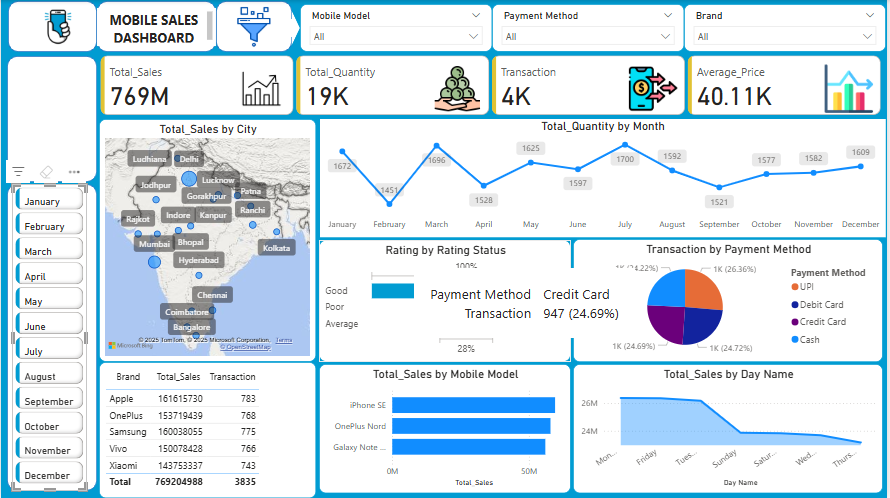

Layout of this report page (visuals, bound fields, positions):
{"tool":"powerbi","page":{"name":"Dashboard","canvas":[1280,720],"ordinal":0},"visuals":[{"type":"shape","box":[10.1,1.4,128.7,73.7],"z":0},{"type":"image","box":[40.5,1.4,83.9,73.7],"z":1000},{"type":"shape","box":[8.7,81,130.1,182.2],"z":2000},{"type":"shape","box":[8.7,266,130.1,443.9],"z":3000},{"type":"advancedSlicerVisual","fields":{"Values":["Custom_Calendar.Date.Variation.Date Hierarchy.Month"]},"box":[15.9,266,108.4,443.9],"z":4000},{"type":"cardVisual","fields":{"Data":["Sales_Data.Total_Sales","Sales_Data.Total_Quantity","Sales_Data.Transaction","Sales_Data.Average_Price"]},"box":[138.8,75.2,1140.7,96.9],"z":5000},{"type":"slicer","fields":{"Values":["Sales_Data.Mobile Model"]},"box":[432.3,5.8,277.6,69.4],"z":6000},{"type":"slicer","fields":{"Values":["Sales_Data.Payment Method"]},"box":[709.9,5.8,277.6,69.4],"z":7000},{"type":"slicer","fields":{"Values":["Sales_Data.Brand"]},"box":[987.5,5.8,292,69.4],"z":8000},{"type":"shape","box":[310.8,1.4,109.9,73.7],"z":9000},{"type":"image","box":[276.1,4.3,179.3,69.4],"z":10000},{"type":"shape","box":[407.7,14.5,24.6,52],"z":11000},{"type":"shape","box":[138.8,1.4,172,73.7],"z":12000},{"type":"textbox","box":[138.8,11.6,172,54.9],"z":13000},{"type":"map","fields":{"Category":["Sales_Data.City"],"Size":["Sales_Data.Total_Sales"]},"box":[141.7,172,313.7,351.3],"z":14000},{"type":"lineChart","fields":{"Category":["Custom_Calendar.Date.Variation.Date Hierarchy.Month"],"Y":["Sales_Data.Total_Quantity"]},"box":[459.8,172,818.3,170.6],"z":15000},{"type":"funnel","title":"Rating by Rating Status","fields":{"Y":["CountNonNull(Sales_Data.Customer Age)"],"Category":["Sales_Data.Rating Status"]},"box":[459.8,347,364.3,176.4],"z":16000},{"type":"pieChart","fields":{"Y":["Sales_Data.Transaction"],"Category":["Sales_Data.Payment Method"]},"box":[827,345.5,448.2,177.8],"z":17000},{"type":"clusteredBarChart","fields":{"Y":["Sales_Data.Total_Sales"],"Category":["Sales_Data.Mobile Model"]},"box":[459.8,526.3,364.3,186.5],"z":18000},{"type":"areaChart","fields":{"Y":["Sales_Data.Total_Sales"],"Category":["Custom_Calendar.Day Name"]},"box":[827,526.3,448.2,186.5],"z":19000},{"type":"tableEx","fields":{"Values":["Sales_Data.Brand","Sales_Data.Total_Sales","Sales_Data.Transaction"]},"box":[141.7,523.4,313.7,196.6],"z":20000}]}

Visuals, with their boxes in screenshot pixels (x1, y1, x2, y2), scaled from the page's 1280x720 canvas onto the 890x498 screenshot:
shape: <bbox>7, 1, 97, 52</bbox>
image: <bbox>28, 1, 86, 52</bbox>
shape: <bbox>6, 56, 97, 182</bbox>
shape: <bbox>6, 184, 97, 491</bbox>
advancedSlicerVisual - Custom_Calendar.Date.Variation.Date Hierarchy.Month: <bbox>11, 184, 86, 491</bbox>
cardVisual - Sales_Data.Total_Sales x Sales_Data.Total_Quantity: <bbox>97, 52, 889, 119</bbox>
slicer - Sales_Data.Mobile Model: <bbox>301, 4, 494, 52</bbox>
slicer - Sales_Data.Payment Method: <bbox>494, 4, 687, 52</bbox>
slicer - Sales_Data.Brand: <bbox>687, 4, 889, 52</bbox>
shape: <bbox>216, 1, 293, 52</bbox>
image: <bbox>192, 3, 317, 51</bbox>
shape: <bbox>283, 10, 301, 46</bbox>
shape: <bbox>97, 1, 216, 52</bbox>
textbox: <bbox>97, 8, 216, 46</bbox>
map - Sales_Data.City x Sales_Data.Total_Sales: <bbox>99, 119, 317, 362</bbox>
lineChart - Custom_Calendar.Date.Variation.Date Hierarchy.Month x Sales_Data.Total_Quantity: <bbox>320, 119, 889, 237</bbox>
"Rating by Rating Status" funnel: <bbox>320, 240, 573, 362</bbox>
pieChart - Sales_Data.Transaction x Sales_Data.Payment Method: <bbox>575, 239, 887, 362</bbox>
clusteredBarChart - Sales_Data.Total_Sales x Sales_Data.Mobile Model: <bbox>320, 364, 573, 493</bbox>
areaChart - Sales_Data.Total_Sales x Custom_Calendar.Day Name: <bbox>575, 364, 887, 493</bbox>
tableEx - Sales_Data.Brand x Sales_Data.Total_Sales: <bbox>99, 362, 317, 497</bbox>
